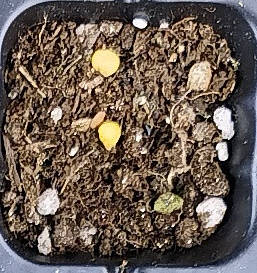pepper seed: (36, 45, 158, 197), (31, 10, 152, 89)
